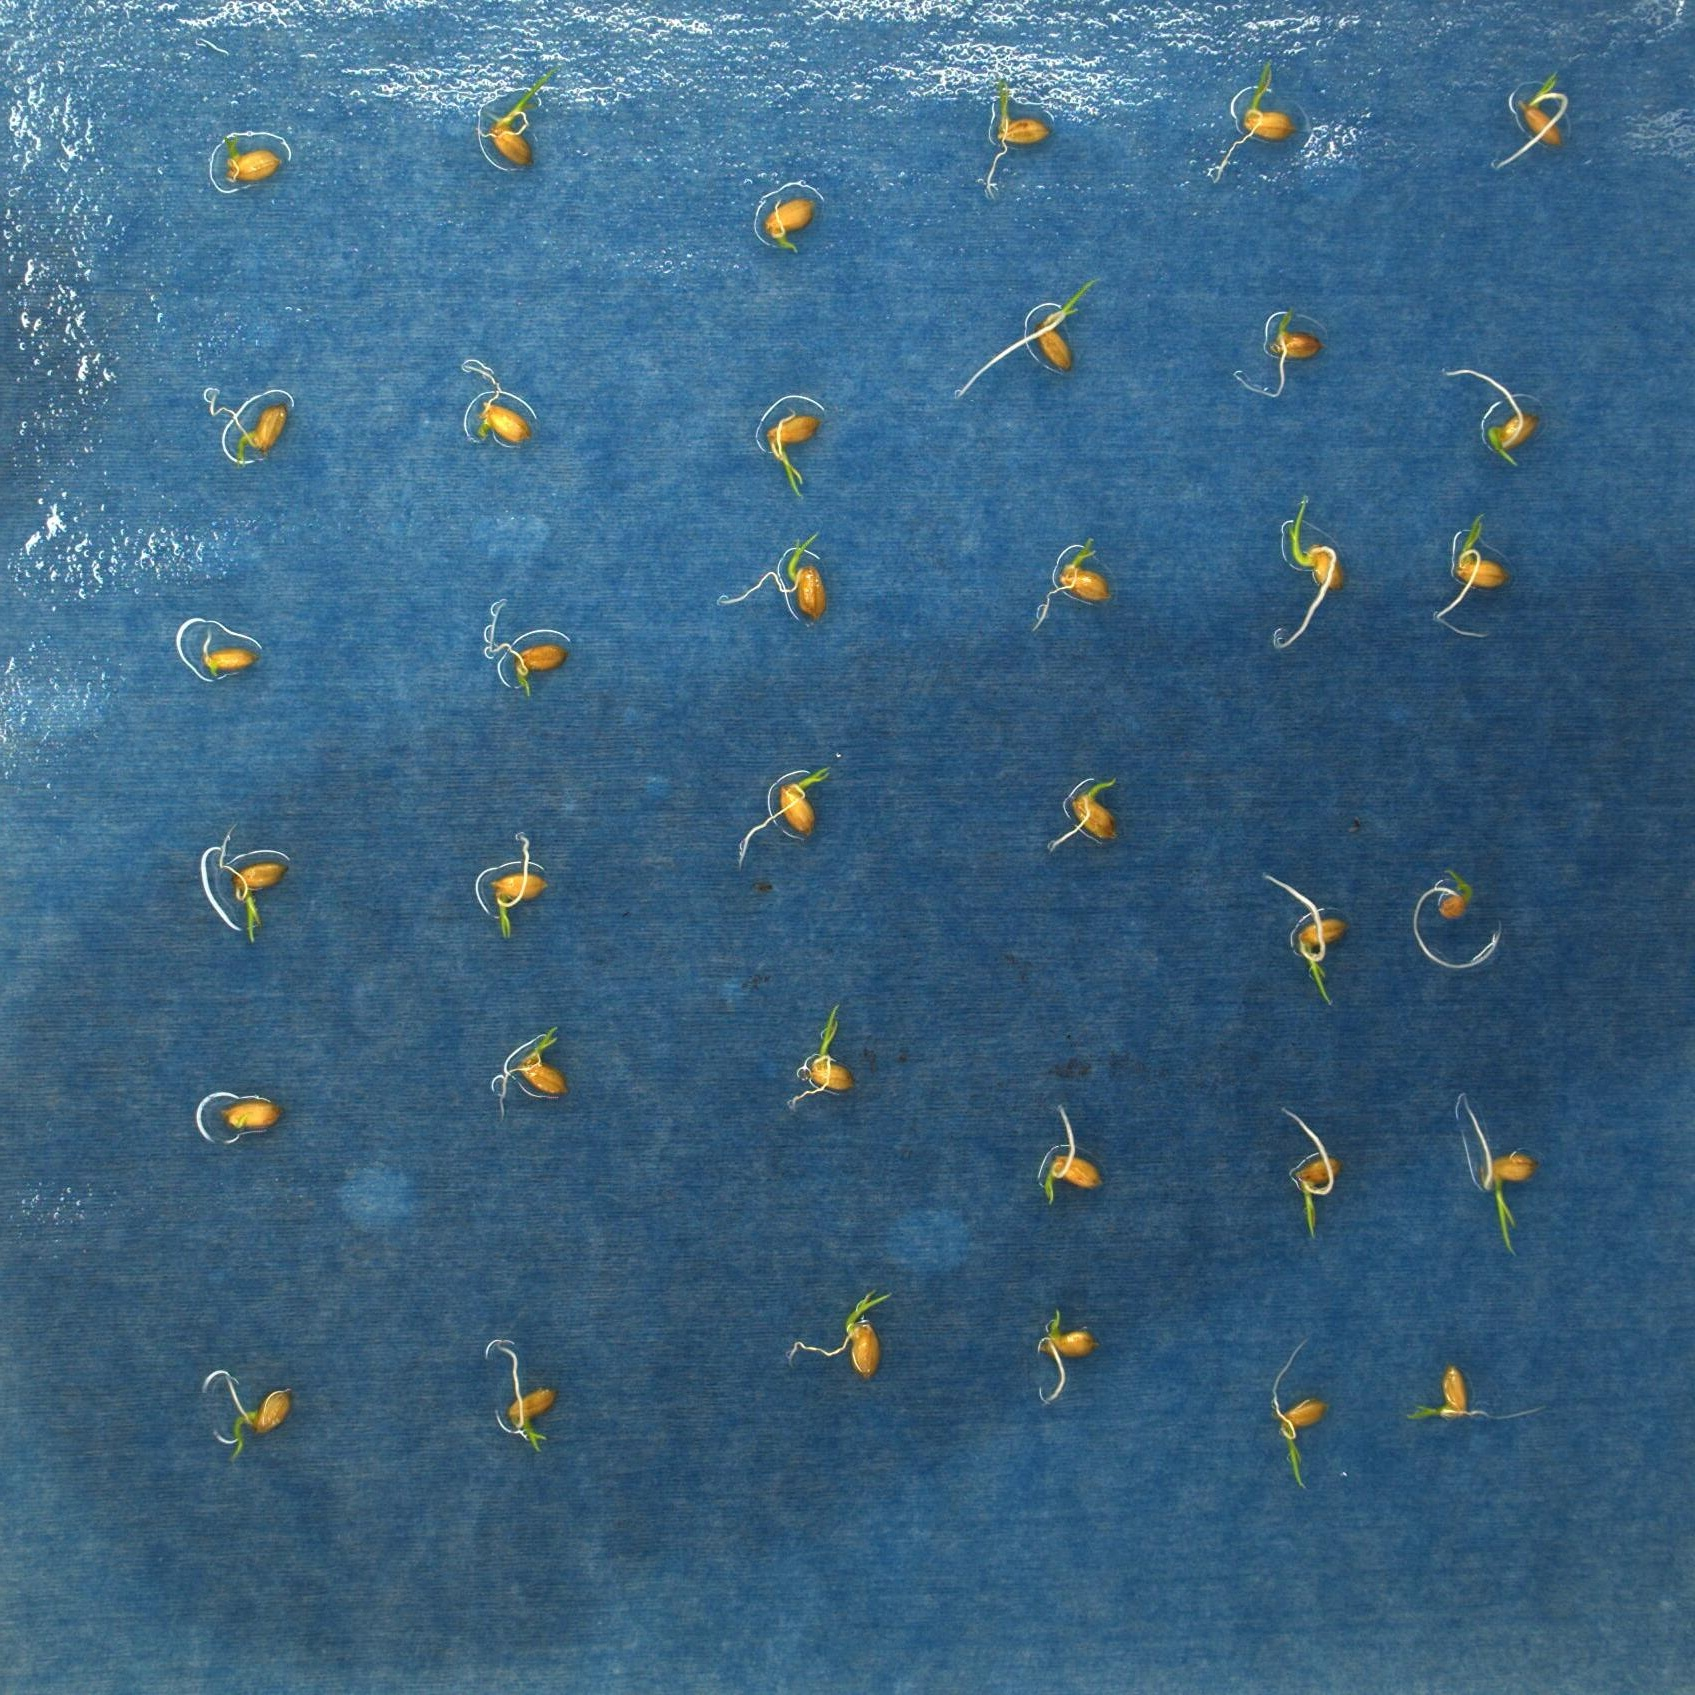not sprout: (466, 365, 532, 445), (202, 626, 261, 678), (220, 1094, 286, 1135)
sprout: (958, 276, 1105, 400), (1462, 1094, 1541, 1257), (1263, 872, 1350, 1006), (1212, 56, 1296, 185), (1274, 495, 1343, 652), (737, 765, 834, 871), (1440, 366, 1540, 467), (1436, 512, 1513, 640), (720, 529, 826, 622), (789, 1288, 893, 1380), (1271, 1336, 1330, 1492), (1412, 868, 1503, 969), (217, 820, 289, 944), (478, 64, 562, 168), (1406, 1361, 1546, 1423), (986, 71, 1052, 200), (1234, 307, 1326, 399), (1282, 1107, 1344, 1239), (1493, 71, 1569, 172), (1034, 537, 1111, 635), (489, 602, 568, 695), (498, 1024, 570, 1122), (789, 1004, 855, 1108), (498, 1341, 556, 1451), (489, 834, 548, 941), (1043, 1104, 1104, 1208), (224, 1372, 290, 1464), (210, 393, 287, 467), (1049, 776, 1119, 855), (1042, 1309, 1099, 1402), (767, 408, 823, 498), (225, 133, 284, 185), (765, 199, 816, 255)
